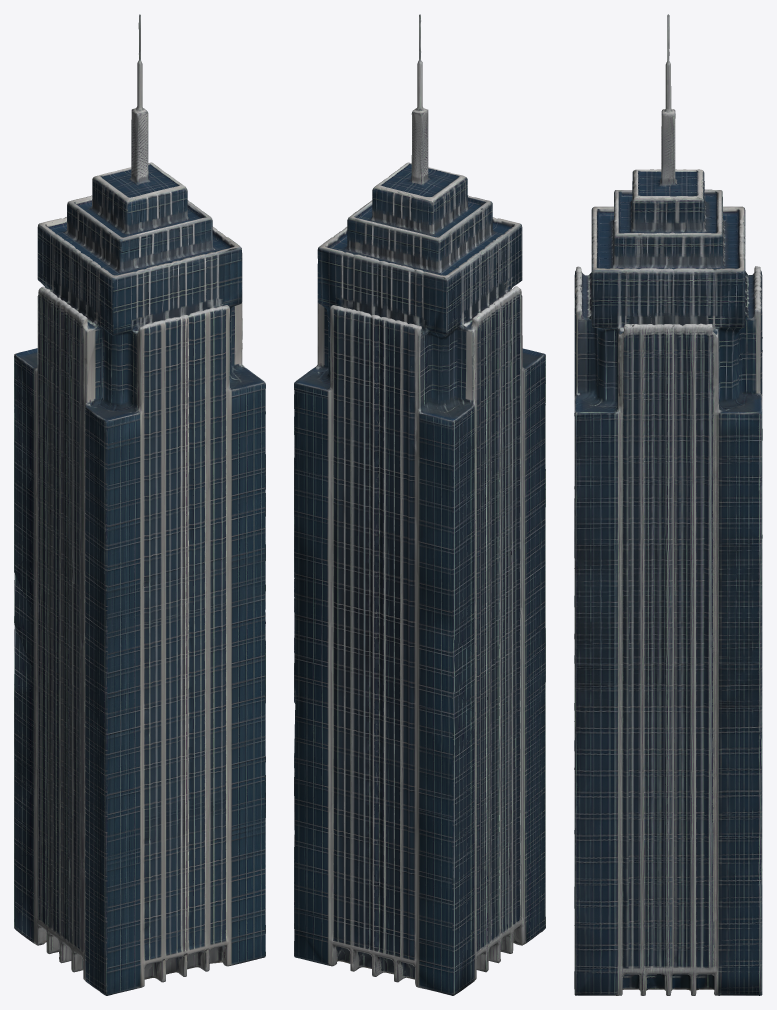
The model's file is building-tower.glb.
3 views of the same model, side by side, from view 1: azimuth 30°, elevation 25°; view 2: azimuth 150°, elevation 25°; view 3: azimuth 270°, elevation 25° (orthographic).
Parts seen in each view (by area): view 1: Mesh_0; view 2: Mesh_0; view 3: Mesh_0.
Boxes of the visible parts, x1,y1,x2,y2 form: Mesh_0: (14,14,265,995); Mesh_0: (294,14,545,995); Mesh_0: (574,14,762,995).
Bounding box in the file's own units: 0.3436 × 1.9 × 0.3432.
Materials: 1 (1 with a texture image).
